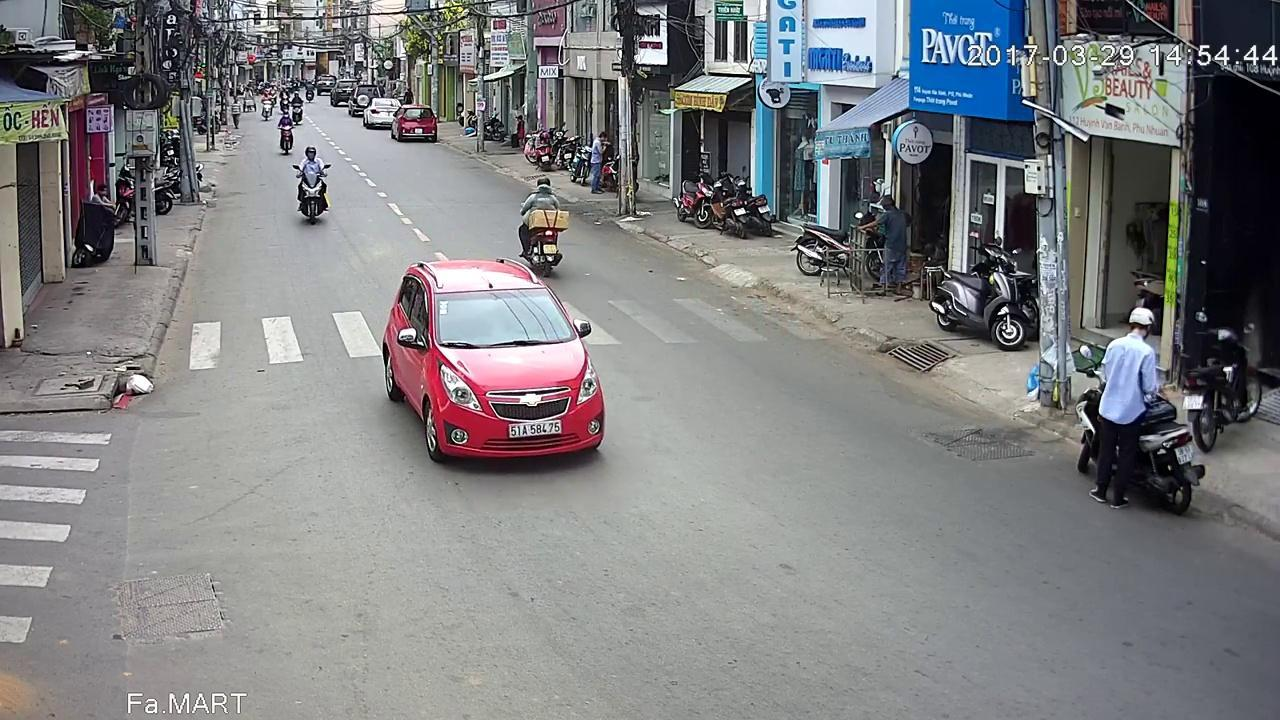xe hoi: (376, 259, 616, 469), (394, 103, 440, 142)
xe may: (1066, 305, 1194, 525), (520, 176, 571, 279), (292, 145, 331, 226), (278, 115, 297, 160)
